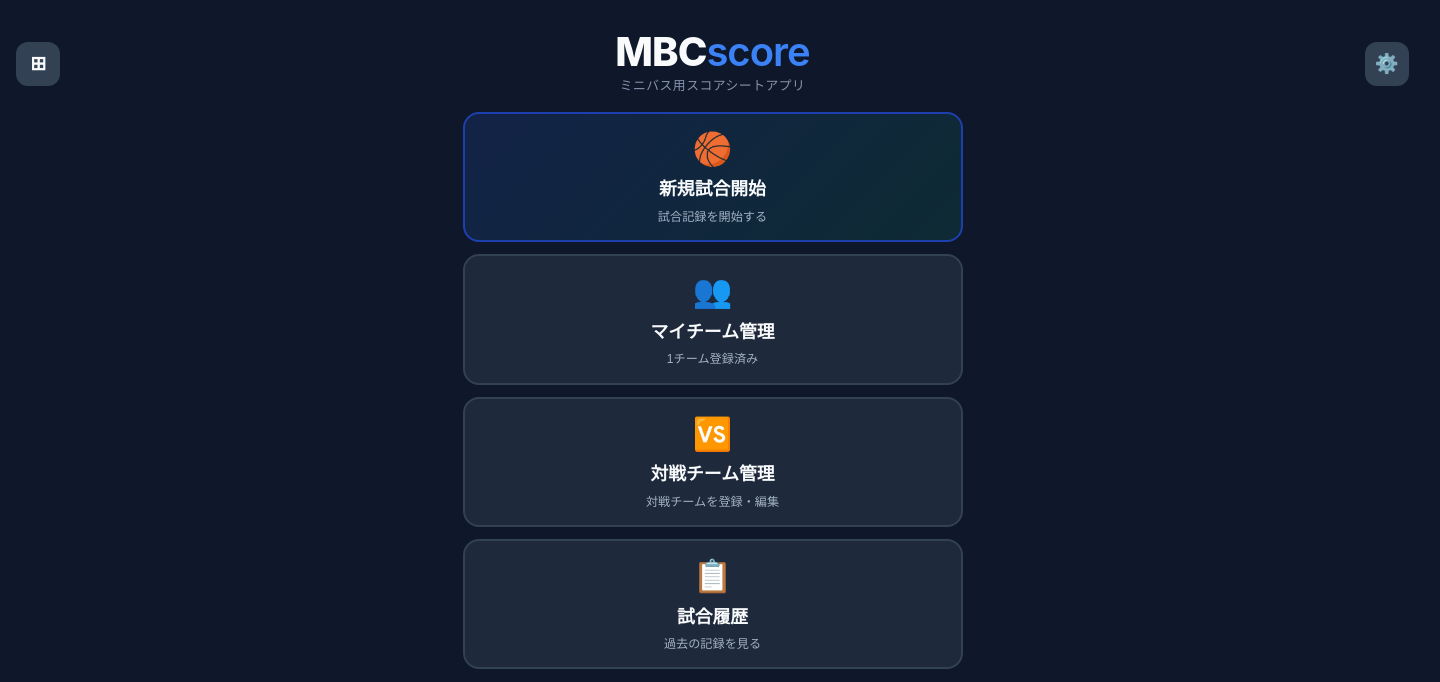
Test: App: ブラウザ履歴と画面遷移の同期 › 画面遷移で履歴エントリが追加される
Step 1. Click the text "マイチーム管理" → [712, 330], box [650,317,775,343]
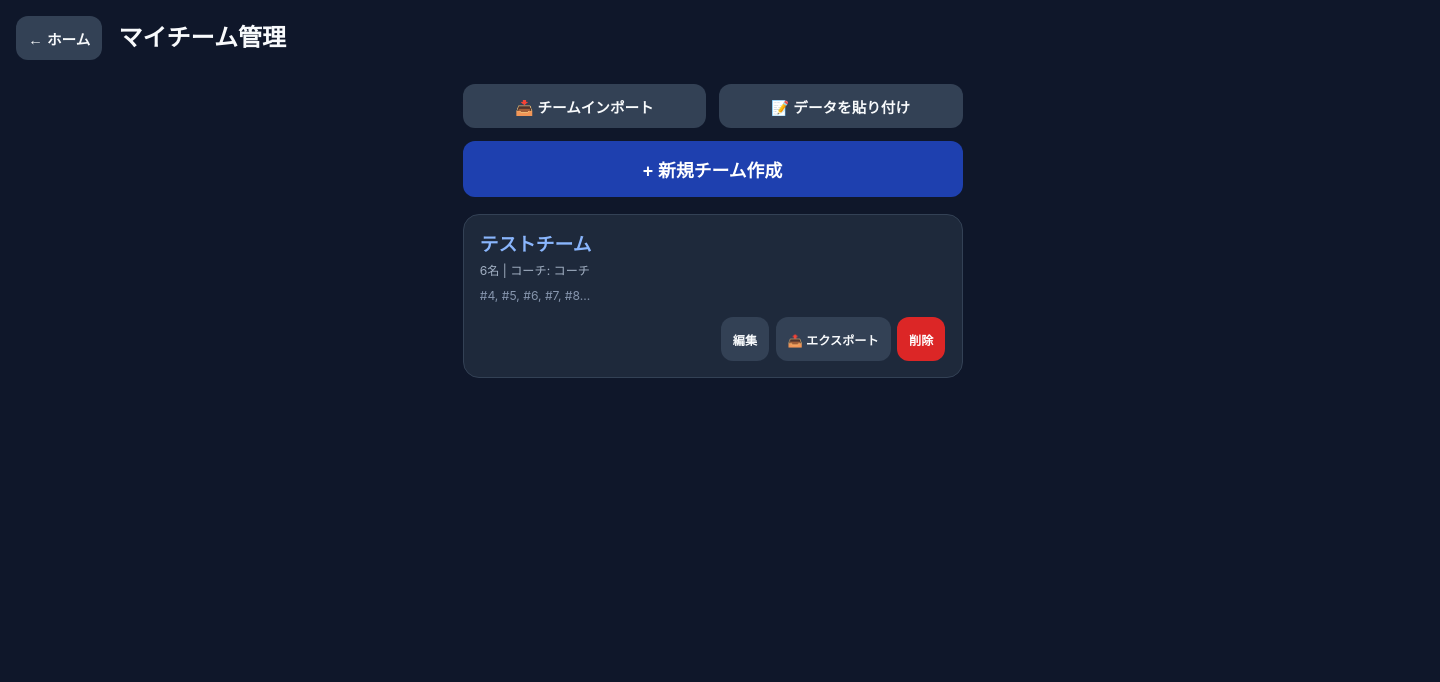
Now the button "+ 新規チーム作成" is shown, box [462,141,962,197]
